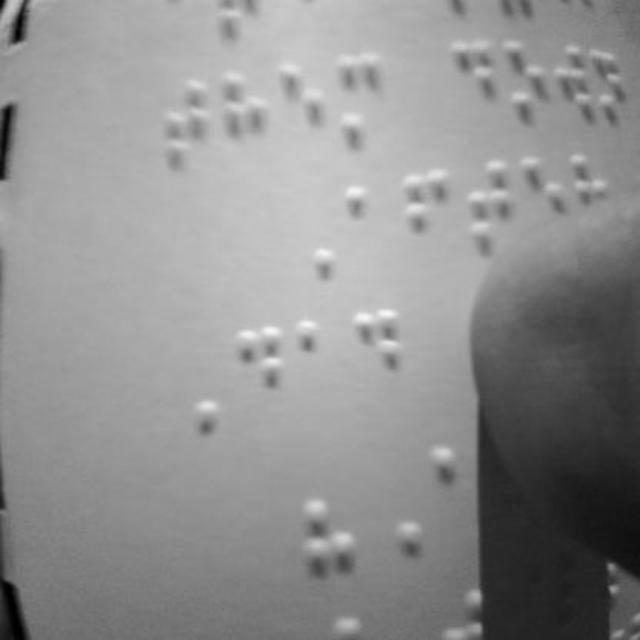braiile: (228, 320, 288, 430), (464, 154, 520, 270), (348, 305, 406, 415), (336, 52, 389, 158), (404, 162, 454, 272), (292, 316, 344, 419), (217, 72, 267, 172), (341, 178, 391, 276), (163, 68, 210, 172), (282, 64, 328, 164), (448, 36, 494, 136), (502, 30, 546, 130)
